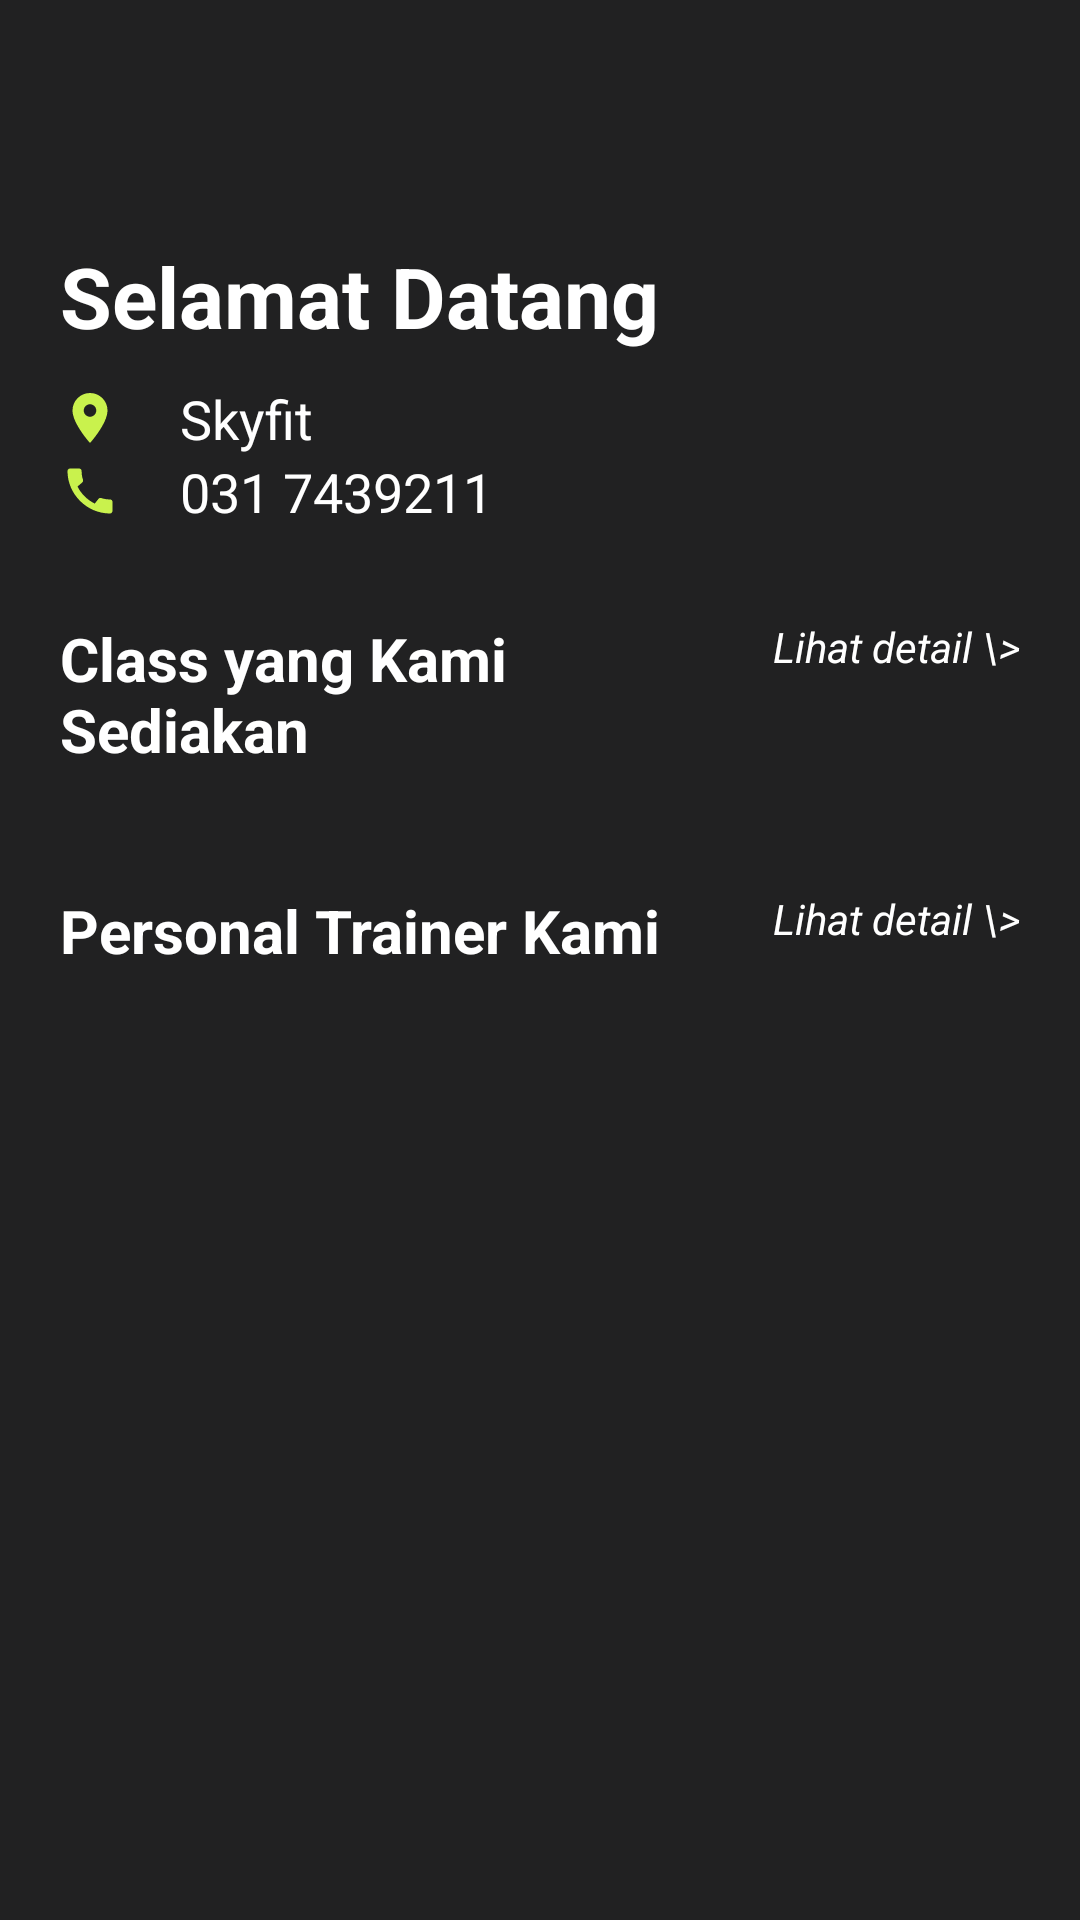

Screen size 1080×1920. Icon name, then its center in pixels as point (x, y):
call: point (90, 491)
location on: point (90, 418)
